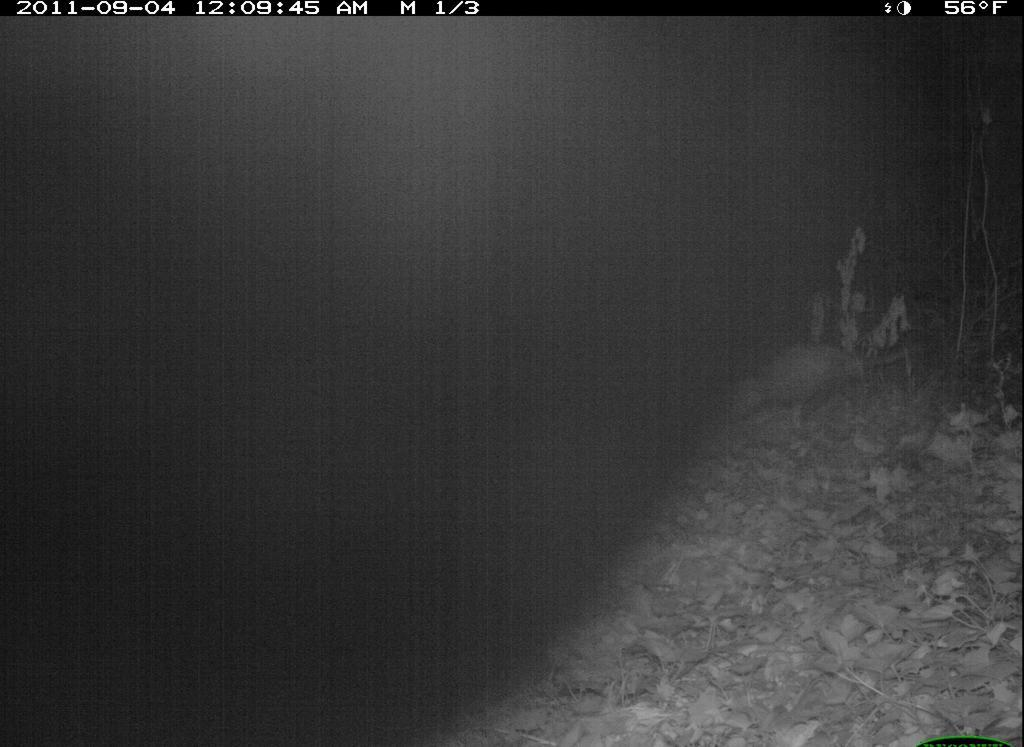opossum: (740, 338, 888, 432)
